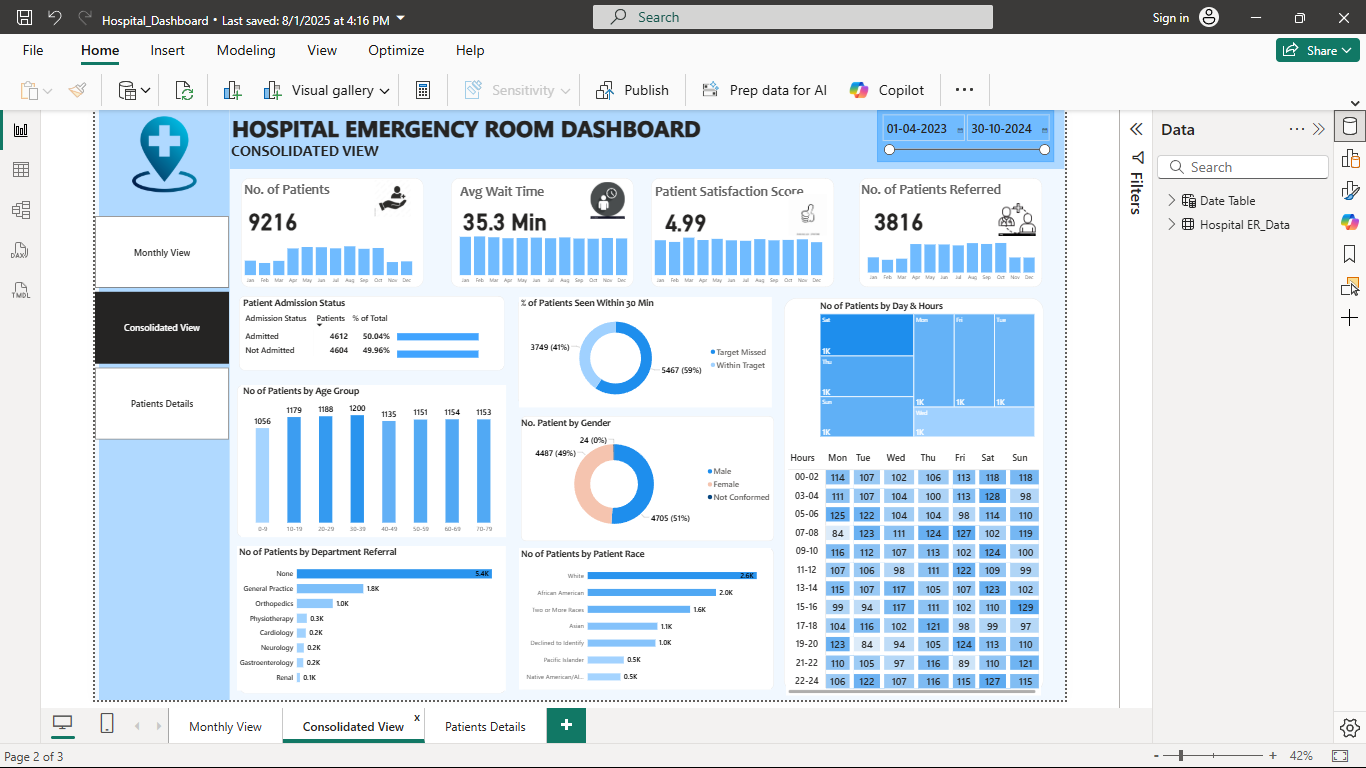

This screenshot's page, from the dashboard's own definition file:
{"tool":"powerbi","page":{"name":"Consolidated  View","canvas":[2300,1400],"ordinal":1},"visuals":[{"type":"shape","box":[345.3,160.5,433.3,259.5],"z":0},{"type":"shape","box":[9.9,0,310,1400.5],"z":1000},{"type":"shape","box":[320.5,0,1980,140],"z":2000},{"type":"textbox","box":[319.7,0,1201.4,108.6],"z":3000},{"type":"shape","box":[844.5,160.5,433.3,259.5],"z":4000},{"type":"shape","box":[1634.1,446.5,615.8,936.9],"z":5000},{"type":"textbox","box":[318.9,68.2,389.3,72.6],"z":6000},{"type":"card","fields":{"Values":["Hospital ER_Data.No of Patients"]},"box":[344.8,215.2,154.6,87.8],"z":7000},{"type":"slicer","fields":{"Values":["Date Table.Date"]},"box":[1856.2,0,420.1,123.2],"z":8000},{"type":"textbox","box":[348.9,163,248.6,64.8],"z":9000},{"type":"columnChart","fields":{"Category":["Date Table.Month Name"],"Y":["Hospital ER_Data.No of Patients"]},"box":[336.4,277.9,434.6,144.2],"z":10000},{"type":"shape","box":[1318.4,160.9,434.6,259.1],"z":11000},{"type":"card","fields":{"Values":["Hospital ER_Data.Satisfaction Score"]},"box":[1324.7,217.3,154.6,87.8],"z":12000},{"type":"textbox","box":[1324.7,169.2,390.7,64.8],"z":13000},{"type":"columnChart","fields":{"Category":["Date Table.Month Name"],"Y":["Hospital ER_Data.Satisfaction Score"]},"box":[1310.1,277.9,434.6,144.2],"z":14000},{"type":"shape","box":[1813.6,160.9,434.6,259.1],"z":15000},{"type":"card","fields":{"Values":["Hospital ER_Data.No of Patient Referred"]},"box":[1830.3,215.2,154.6,87.8],"z":16000},{"type":"textbox","box":[1813.6,163,380.3,64.8],"z":17000},{"type":"columnChart","fields":{"Category":["Date Table.Month Name"],"Y":["Hospital ER_Data.Patient Waittime"]},"box":[846.2,277.9,434.6,144.2],"z":18000},{"type":"columnChart","fields":{"Category":["Date Table.Month Name"],"Y":["Hospital ER_Data.No of Patient Referred"]},"box":[1814.4,270.5,433.3,145.2],"z":19000},{"type":"card","fields":{"Values":["Hospital ER_Data.Avg wait Time"]},"box":[846.2,215.2,250.7,87.8],"z":20000},{"type":"shape","box":[342.7,440.9,630,177],"z":21000},{"type":"textbox","box":[860.8,169.2,248.6,64.8],"z":22000},{"type":"pivotTable","title":"Patient Admission Status","fields":{"Rows":["Hospital ER_Data.Admission Status"],"Values":["Hospital ER_Data.No of Patients1","Hospital ER_Data.No of Patients"]},"box":[345.3,444.3,657.6,173.7],"z":23000},{"type":"barChart","fields":{"Category":["Hospital ER_Data.Admission Status"],"Y":["Hospital ER_Data.No of Patients"]},"box":[712.6,497,261.7,121],"z":24000},{"type":"shape","box":[336.5,653.2,629,360.7],"z":25000},{"type":"columnChart","fields":{"Category":["Hospital ER_Data.Age Group"],"Y":["Hospital ER_Data.No of Patients"]},"box":[345.3,653.2,629,360.7],"z":26000},{"type":"shape","box":[343.1,1033.7,630,350],"z":27000},{"type":"clusteredBarChart","fields":{"Category":["Hospital ER_Data.Department Referral"],"Y":["Hospital ER_Data.No of Patients"]},"box":[336.5,1033.7,637.8,343.1],"z":28000},{"type":"shape","box":[1002.9,444.3,600.4,259.5],"z":29000},{"type":"donutChart","title":"% of Patients Seen Within 30 Min","fields":{"Category":["Hospital ER_Data.wait Time"],"Y":["Hospital ER_Data.No of Patients"]},"box":[1005.1,444.3,600.4,261.7],"z":30000},{"type":"shape","box":[1011.7,725.8,600.4,296.9],"z":31000},{"type":"donutChart","title":"No. Patient by Gender","fields":{"Y":["Hospital ER_Data.No of Patients"],"Category":["Hospital ER_Data.Patient Gender"]},"box":[1007.3,728,609.2,288.1],"z":32000},{"type":"shape","box":[1005.1,1040.3,604.8,336.5],"z":33000},{"type":"barChart","fields":{"Category":["Hospital ER_Data.Patient Race"],"Y":["Hospital ER_Data.No of Patients"]},"box":[1007.3,1040.3,598.2,336.5],"z":34000},{"type":"pivotTable","fields":{"Rows":["Hospital ER_Data.Waittime_interval"],"Columns":["Date Table.Day Name"],"Values":["Hospital ER_Data.No of Patients"]},"box":[1640.7,804.9,605,585],"z":35000},{"type":"treemap","title":"No of Patients by Day & Hours","fields":{"Group":["Date Table.Day Name"],"Values":["Hospital ER_Data.No of Patients"]},"box":[1715.4,450.9,519,329.9],"z":36000},{"type":"image","box":[648.8,160.5,116.6,96.8],"z":37000},{"type":"image","box":[2126.7,215.5,123.2,88],"z":38000},{"type":"image","box":[1156.8,164.9,116.6,96.8],"z":39000},{"type":"image","box":[1629.7,195.7,123.2,107.8],"z":40000},{"type":"image","box":[33,8.8,263.9,191.3],"z":41000},{"type":"pageNavigator","box":[0,250.7,318.9,530],"z":42000}]}

Visuals, with their boxes on the page's 2300x1400 design canvas (x1, y1, x2, y2). These are canvas units, not pixel positions in the 1366x768 screenshot, which may show the page scaled, cropped or inside an application window:
shape: [x1=345, y1=160, x2=779, y2=420]
shape: [x1=10, y1=0, x2=320, y2=1400]
shape: [x1=320, y1=0, x2=2300, y2=140]
textbox: [x1=320, y1=0, x2=1521, y2=109]
shape: [x1=844, y1=160, x2=1278, y2=420]
shape: [x1=1634, y1=446, x2=2250, y2=1383]
textbox: [x1=319, y1=68, x2=708, y2=141]
card - Hospital ER_Data.No of Patients: [x1=345, y1=215, x2=499, y2=303]
slicer - Date Table.Date: [x1=1856, y1=0, x2=2276, y2=123]
textbox: [x1=349, y1=163, x2=598, y2=228]
columnChart - Date Table.Month Name x Hospital ER_Data.No of Patients: [x1=336, y1=278, x2=771, y2=422]
shape: [x1=1318, y1=161, x2=1753, y2=420]
card - Hospital ER_Data.Satisfaction Score: [x1=1325, y1=217, x2=1479, y2=305]
textbox: [x1=1325, y1=169, x2=1715, y2=234]
columnChart - Date Table.Month Name x Hospital ER_Data.Satisfaction Score: [x1=1310, y1=278, x2=1745, y2=422]
shape: [x1=1814, y1=161, x2=2248, y2=420]
card - Hospital ER_Data.No of Patient Referred: [x1=1830, y1=215, x2=1985, y2=303]
textbox: [x1=1814, y1=163, x2=2194, y2=228]
columnChart - Date Table.Month Name x Hospital ER_Data.Patient Waittime: [x1=846, y1=278, x2=1281, y2=422]
columnChart - Date Table.Month Name x Hospital ER_Data.No of Patient Referred: [x1=1814, y1=270, x2=2248, y2=416]
card - Hospital ER_Data.Avg wait Time: [x1=846, y1=215, x2=1097, y2=303]
shape: [x1=343, y1=441, x2=973, y2=618]
textbox: [x1=861, y1=169, x2=1109, y2=234]
"Patient Admission Status" pivotTable: [x1=345, y1=444, x2=1003, y2=618]
barChart - Hospital ER_Data.Admission Status x Hospital ER_Data.No of Patients: [x1=713, y1=497, x2=974, y2=618]
shape: [x1=336, y1=653, x2=966, y2=1014]
columnChart - Hospital ER_Data.Age Group x Hospital ER_Data.No of Patients: [x1=345, y1=653, x2=974, y2=1014]
shape: [x1=343, y1=1034, x2=973, y2=1384]
clusteredBarChart - Hospital ER_Data.Department Referral x Hospital ER_Data.No of Patients: [x1=336, y1=1034, x2=974, y2=1377]
shape: [x1=1003, y1=444, x2=1603, y2=704]
"% of Patients Seen Within 30 Min" donutChart: [x1=1005, y1=444, x2=1606, y2=706]
shape: [x1=1012, y1=726, x2=1612, y2=1023]
"No. Patient by Gender" donutChart: [x1=1007, y1=728, x2=1616, y2=1016]
shape: [x1=1005, y1=1040, x2=1610, y2=1377]
barChart - Hospital ER_Data.Patient Race x Hospital ER_Data.No of Patients: [x1=1007, y1=1040, x2=1606, y2=1377]
pivotTable - Hospital ER_Data.Waittime_interval x Date Table.Day Name: [x1=1641, y1=805, x2=2246, y2=1390]
"No of Patients by Day & Hours" treemap: [x1=1715, y1=451, x2=2234, y2=781]
image: [x1=649, y1=160, x2=765, y2=257]
image: [x1=2127, y1=216, x2=2250, y2=304]
image: [x1=1157, y1=165, x2=1273, y2=262]
image: [x1=1630, y1=196, x2=1753, y2=304]
image: [x1=33, y1=9, x2=297, y2=200]
pageNavigator: [x1=0, y1=251, x2=319, y2=781]
